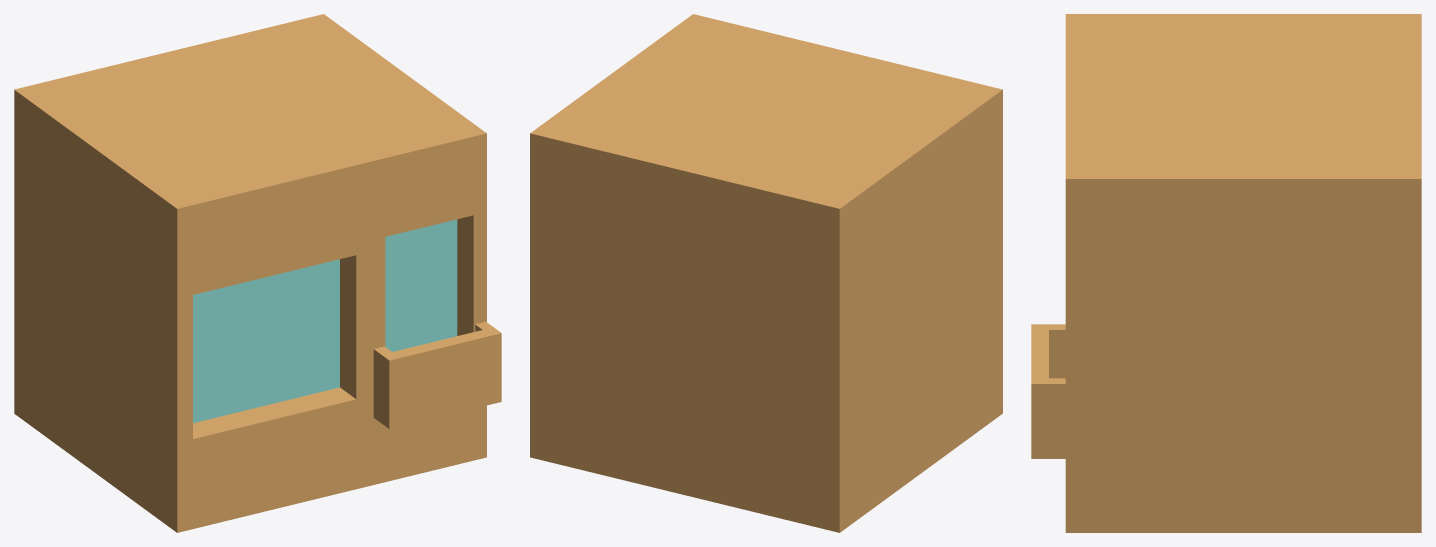
Rendered from Building Mid1.fbx.
3 views of the same model, side by side, from view 1: azimuth 30°, elevation 25°; view 2: azimuth 150°, elevation 25°; view 3: azimuth 270°, elevation 25° (orthographic). The views are drawn at different scales.
Visible parts, largest first — view 1: middle2; view 2: middle2; view 3: middle2.
Boxes of the visible parts, box(x1,y1,x2,y2) form: middle2: box(14, 14, 501, 532); middle2: box(530, 14, 1002, 532); middle2: box(1031, 14, 1421, 532).
Bounding box in the file's own units: 300 × 300 × 300.
